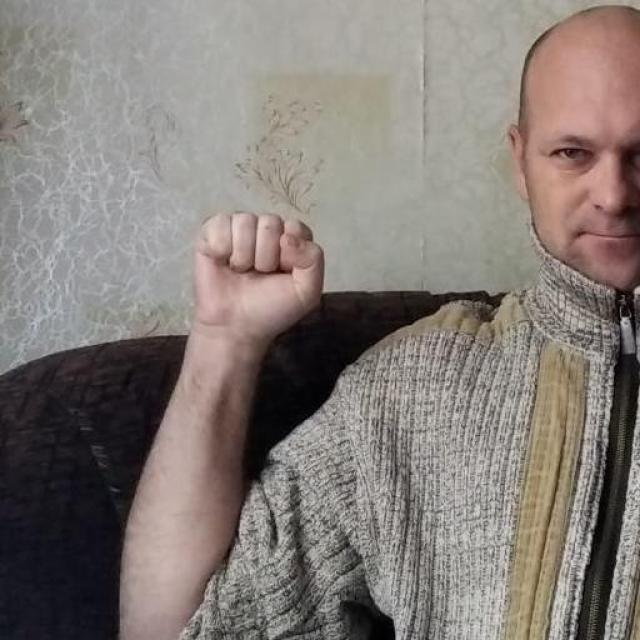hand: (189, 209, 325, 345)
